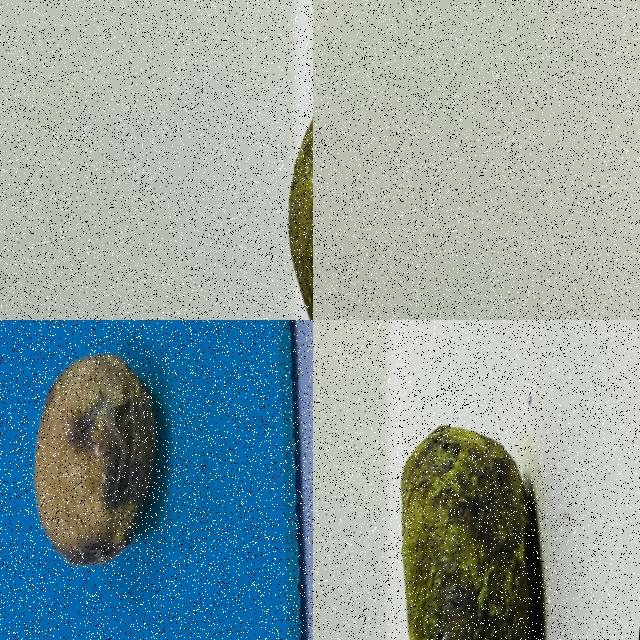Fine_cocoabeans: (0, 320, 252, 639), (349, 329, 602, 639)
